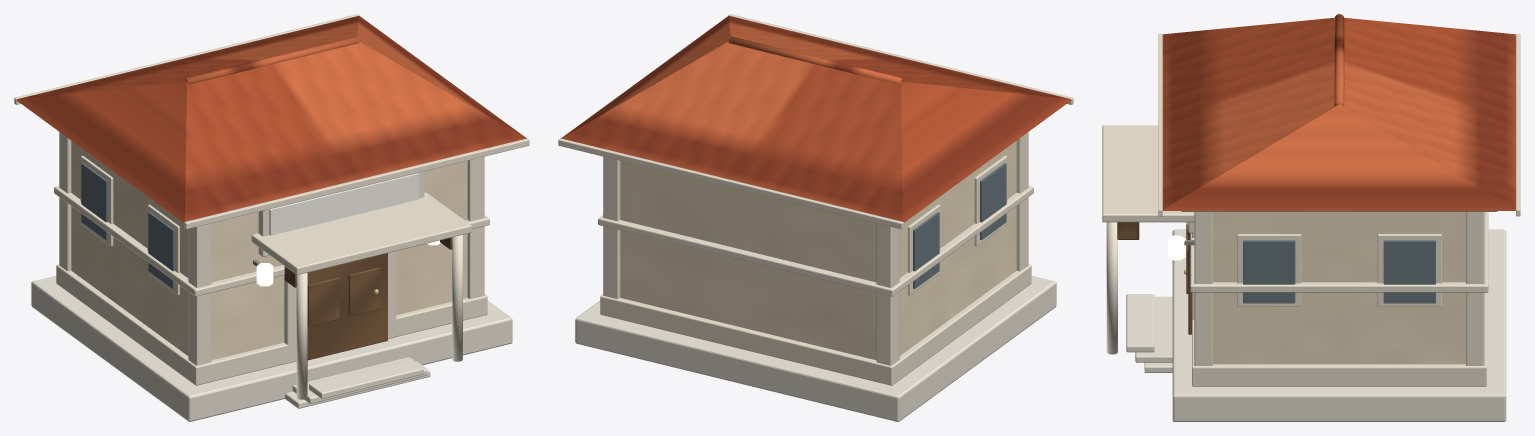
The model's file is reports.glb.
3 renders of one model, left to right at view 1: azimuth 30°, elevation 25°; view 2: azimuth 150°, elevation 25°; view 3: azimuth 270°, elevation 25°, orthographic. The views are drawn at different scales.
Parts seen in each view (by area): view 1: reports_roof_front, reports_wall, reports_plinth, reports_roof_left, reports_canopy, reports_skirt, reports_roof_back, reports_door, reports_signface, reports_pil, reports_roof_eaveF, reports_band (+18 smaller); view 2: reports_wall, reports_roof_back, reports_plinth, reports_roof_left, reports_skirt, reports_roof_front, reports_band, reports_pil.001, reports_roof_eaveB, reports_pil.003, reports_roof_right, reports_pil (+6 smaller); view 3: reports_wall, reports_roof_front, reports_roof_back, reports_roof_right, reports_plinth, reports_skirt, reports_canopy, reports_band, reports_sf0_0_1, reports_sf0_1_1, reports_pil.002, reports_pil.003 (+10 smaller).
Boxes of the visible parts, bbox=[...] form: reports_roof_front: bbox=[185, 41, 526, 221]; reports_wall: bbox=[71, 141, 467, 360]; reports_plinth: bbox=[31, 276, 512, 421]; reports_roof_left: bbox=[16, 81, 186, 222]; reports_canopy: bbox=[251, 192, 471, 274]; reports_skirt: bbox=[56, 264, 487, 385]; reports_roof_back: bbox=[18, 16, 358, 98]; reports_door: bbox=[307, 253, 387, 360]; reports_signface: bbox=[269, 173, 419, 235]; reports_pil: bbox=[188, 223, 211, 365]; reports_roof_eaveF: bbox=[184, 138, 529, 229]; reports_band: bbox=[54, 186, 489, 296]; reports_wall: bbox=[620, 141, 1016, 360]; reports_roof_back: bbox=[561, 41, 902, 221]; reports_plinth: bbox=[575, 276, 1056, 421]; reports_roof_left: bbox=[901, 81, 1071, 222]; reports_skirt: bbox=[600, 264, 1031, 385]; reports_roof_front: bbox=[729, 16, 1069, 98]; reports_band: bbox=[598, 186, 1033, 296]; reports_pil.001: bbox=[876, 223, 899, 365]; reports_roof_eaveB: bbox=[558, 138, 903, 229]; reports_pil.003: bbox=[603, 156, 620, 298]; reports_roof_right: bbox=[561, 16, 730, 138]; reports_pil: bbox=[1016, 132, 1028, 271]; reports_wall: bbox=[1213, 212, 1465, 364]; reports_roof_front: bbox=[1162, 17, 1337, 209]; reports_roof_back: bbox=[1340, 17, 1515, 209]; reports_roof_right: bbox=[1163, 104, 1515, 210]; reports_plinth: bbox=[1172, 229, 1506, 421]; reports_skirt: bbox=[1192, 292, 1486, 386]; reports_canopy: bbox=[1102, 125, 1194, 222]; reports_band: bbox=[1190, 212, 1488, 292]; reports_sf0_0_1: bbox=[1243, 240, 1295, 303]; reports_sf0_1_1: bbox=[1383, 240, 1435, 303]; reports_pil.002: bbox=[1194, 212, 1212, 365]; reports_pil.003: bbox=[1466, 212, 1484, 365].
Bounding box in the file's own units: 10.4 × 7.74 × 10.41.
Materials: 11 (4 with a texture image).
